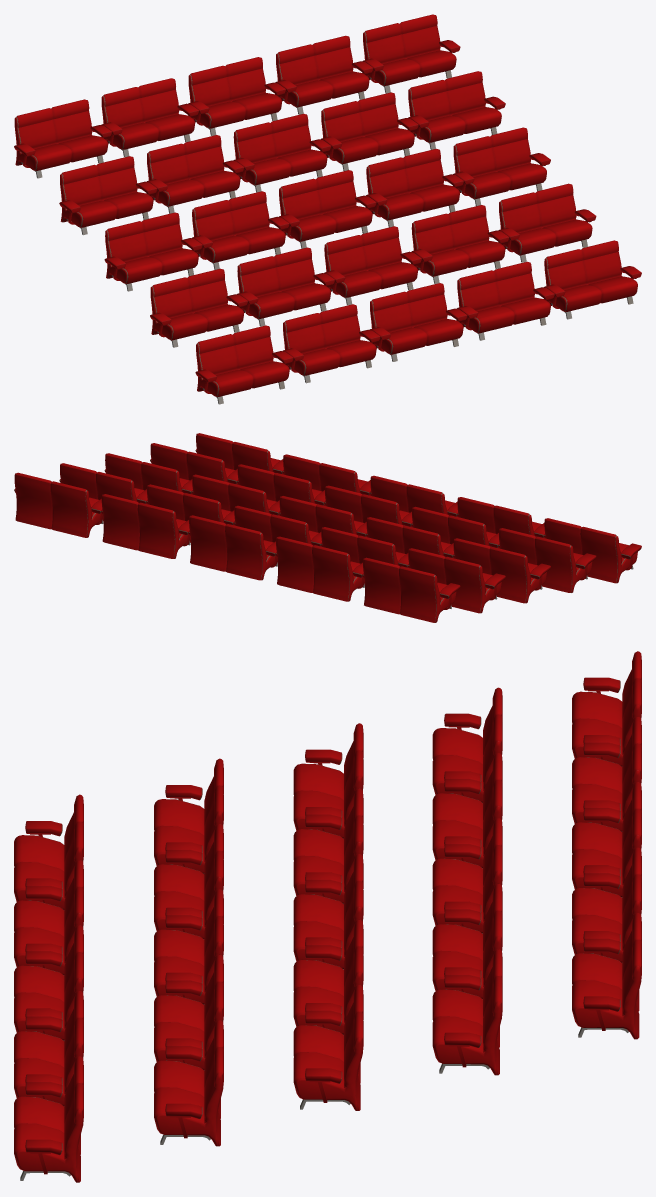
The model's file is CinemaSofa02.FBX.
3 views of the same model, one above another, from view 1: azimuth 30°, elevation 25°; view 2: azimuth 150°, elevation 25°; view 3: azimuth 270°, elevation 25° (orthographic). The views are drawn at different scales.
Parts seen in each view (by area): view 1: CinemaSofa02; view 2: CinemaSofa02; view 3: CinemaSofa02.
Boxes of the visible parts, <box> form: CinemaSofa02: <box>14,14,641,404</box>; CinemaSofa02: <box>14,433,641,622</box>; CinemaSofa02: <box>14,651,641,1182</box>.
Size of the model in its own units: 1331 by 414 by 1081.
